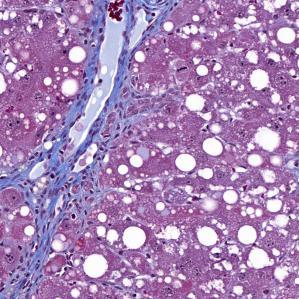fibrosis: (27, 113, 114, 218), (82, 0, 174, 98), (12, 235, 59, 299)
